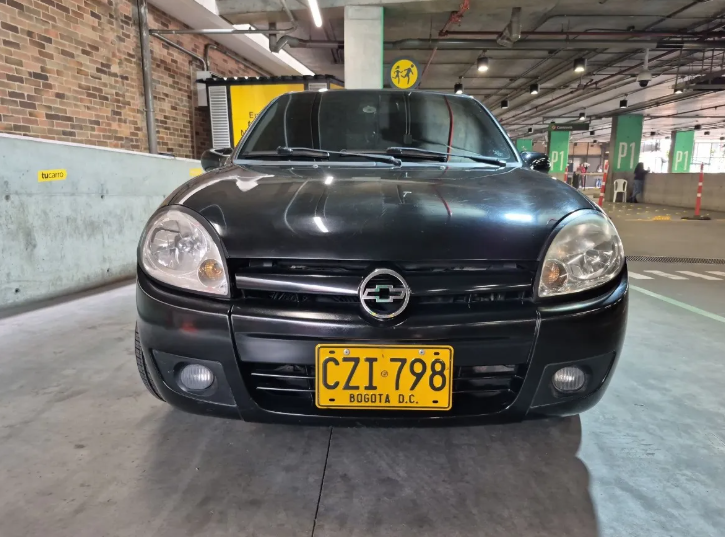placa: (313, 342, 455, 414)
